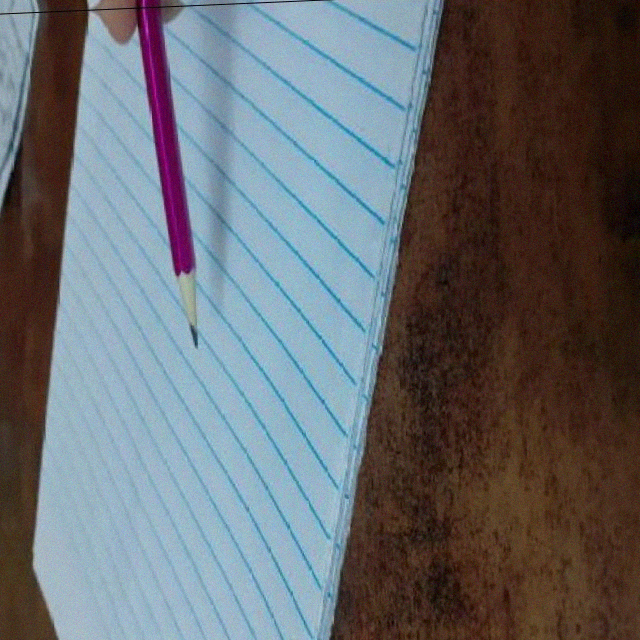pencil: (169, 271, 206, 351)
